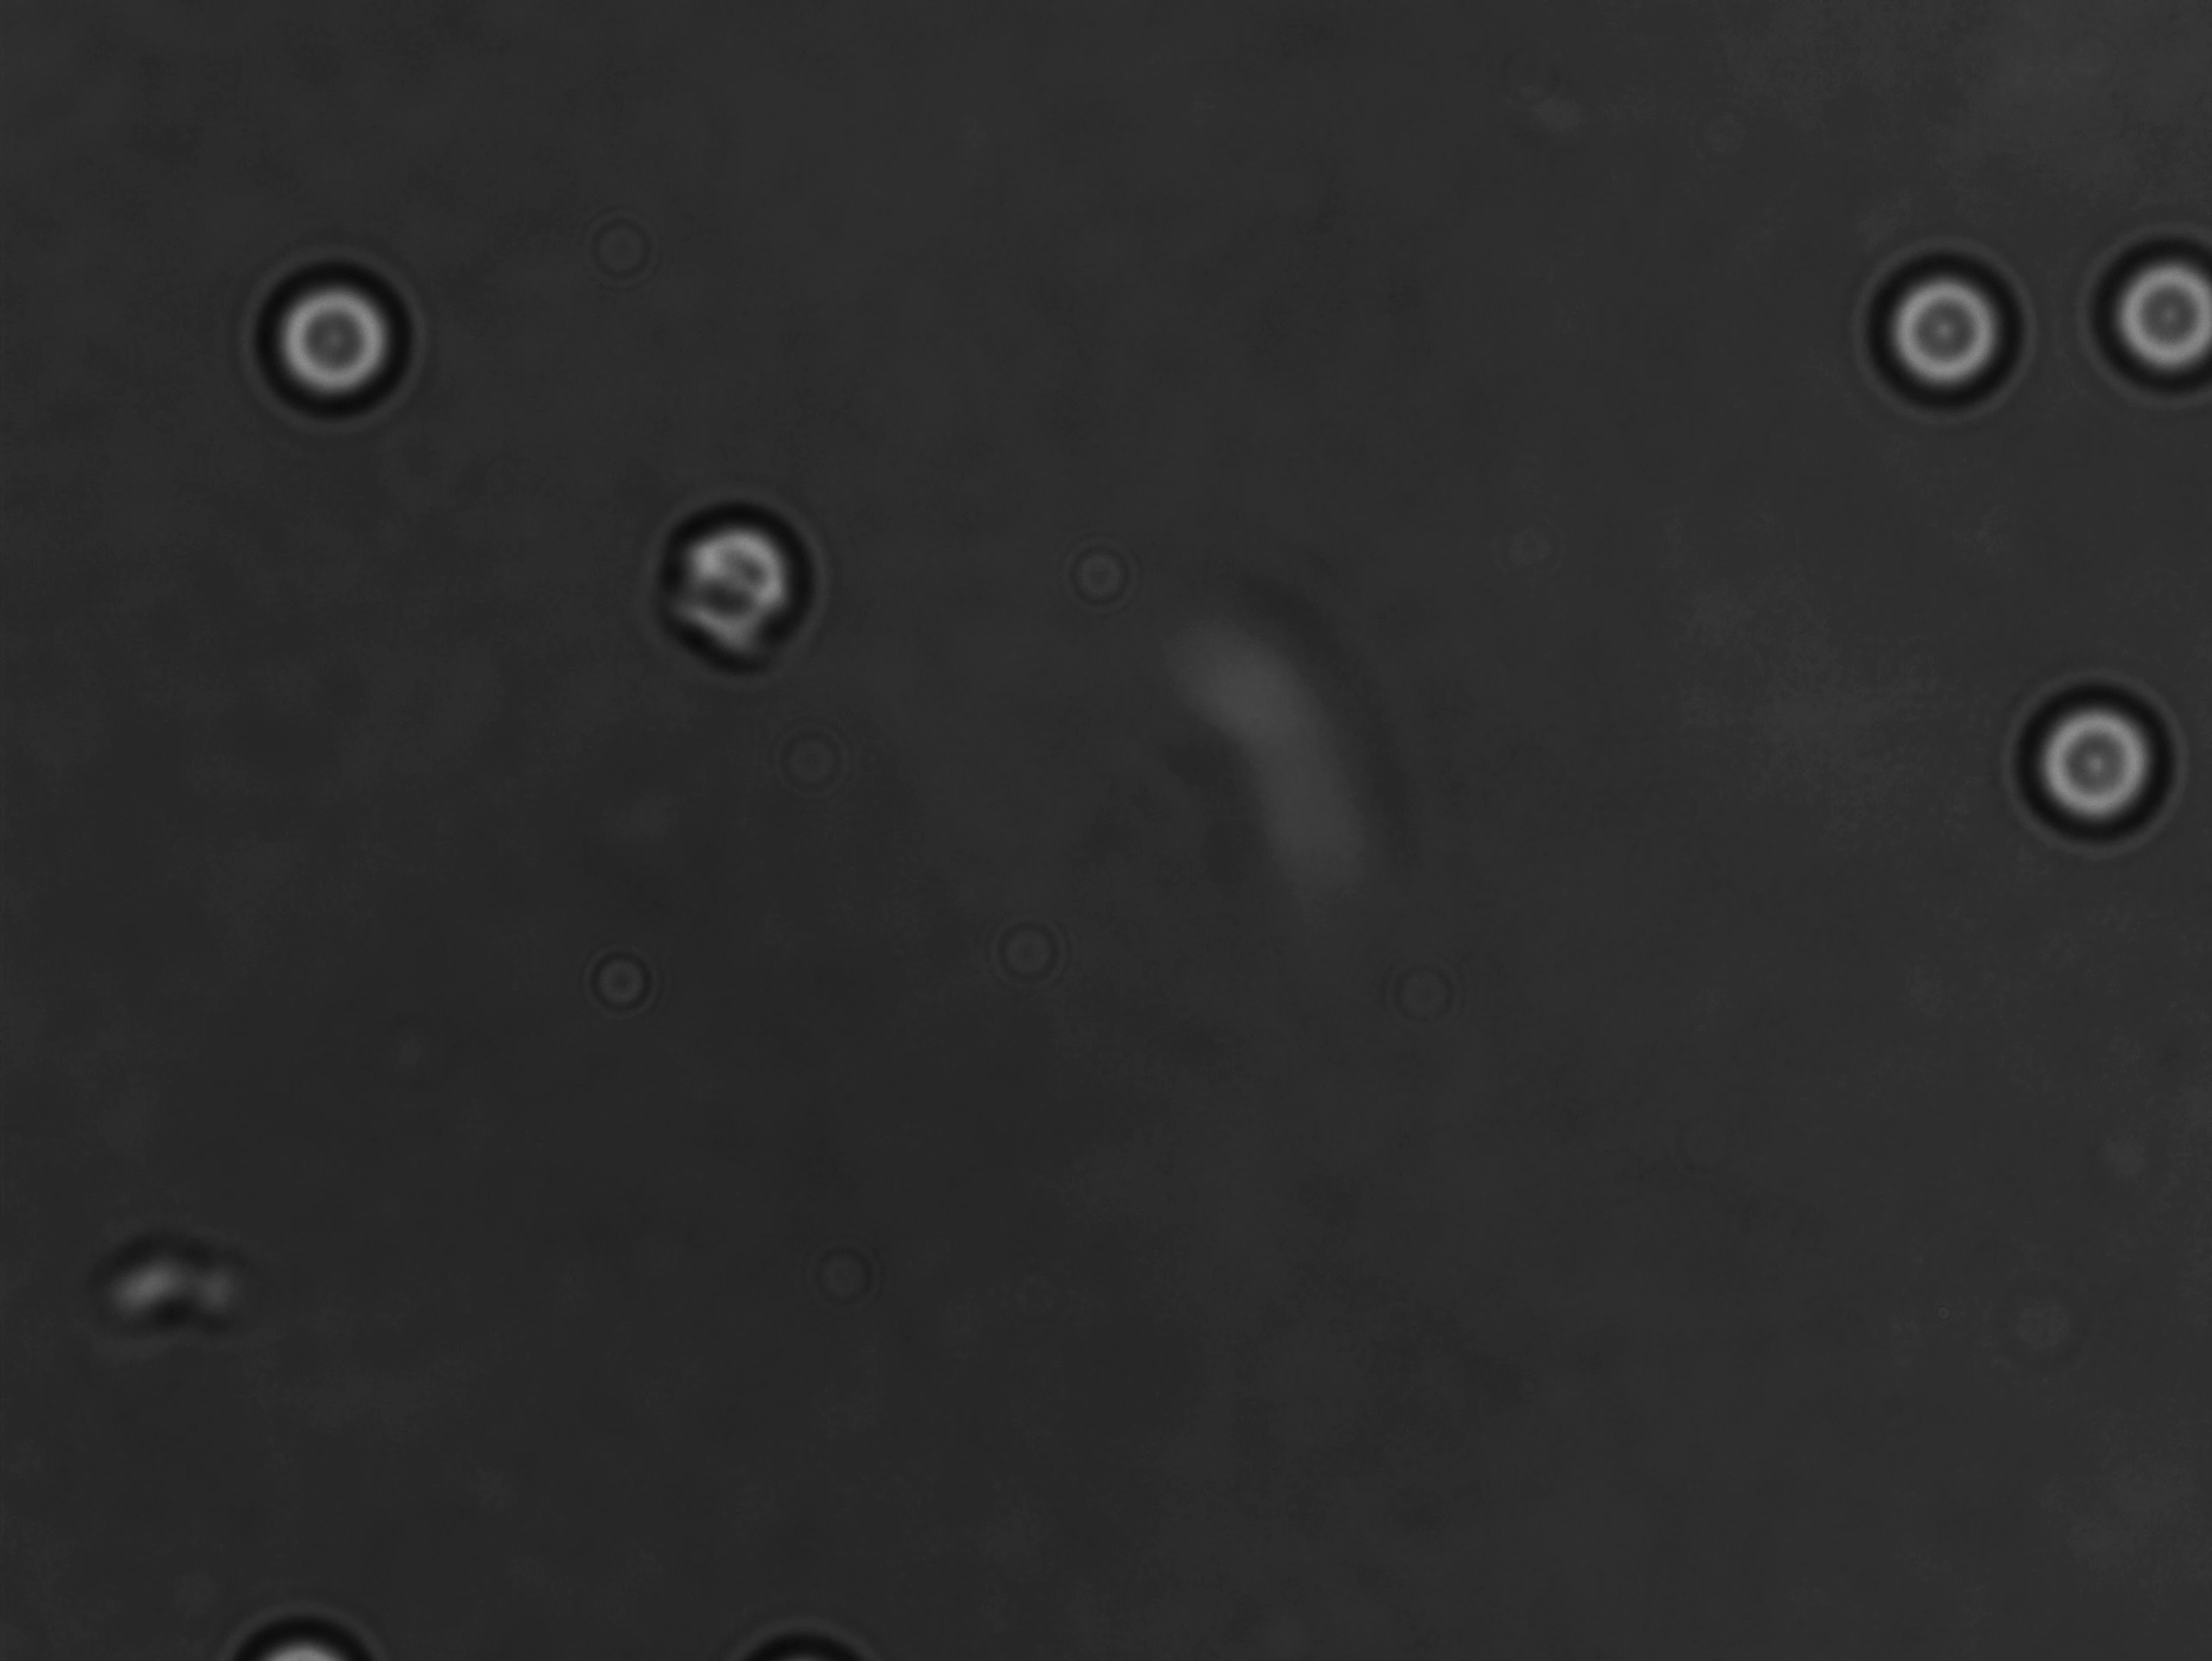depth:40: (2006, 658, 2210, 846), (1853, 234, 2029, 420), (237, 243, 420, 415), (2081, 232, 2212, 394)
